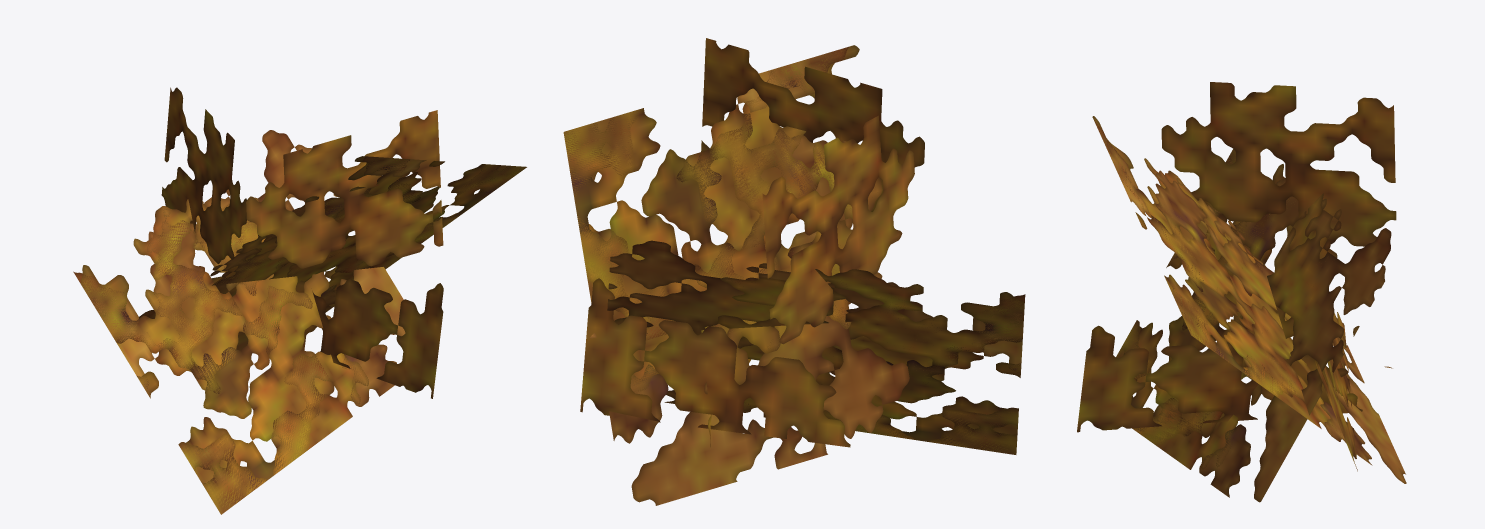
Rendered from maple_leaves_slab_upper.obj.
3 renders of one model, left to right at view 1: azimuth 30°, elevation 25°; view 2: azimuth 150°, elevation 25°; view 3: azimuth 270°, elevation 25°, orthographic. The views are drawn at different scales.
Visible parts, largest first — view 1: cube; view 2: cube; view 3: cube.
Boxes of the visible parts, x1,y1,x2,y2 form: cube: (73,87,526,514); cube: (563,38,1025,505); cube: (1077,82,1406,502).
Size of the model in its own units: 2.99 by 2.22 by 2.1.
